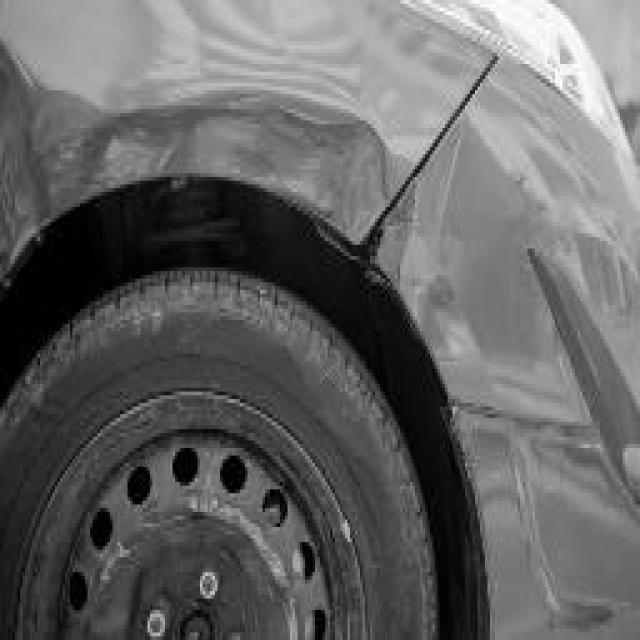Bumper: (410, 72, 638, 640)
Fender: (2, 60, 375, 237)
